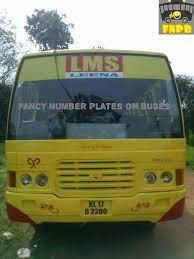Bus: (4, 48, 187, 230)
